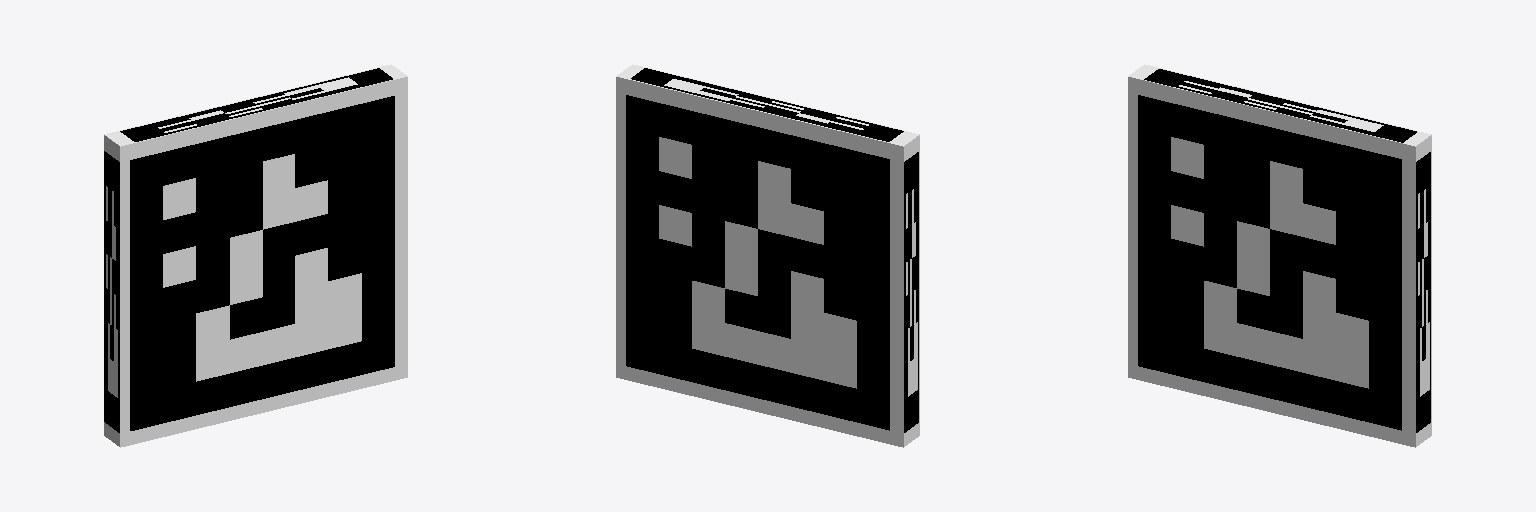
3 renders of one model, left to right at view 1: azimuth 30°, elevation 25°; view 2: azimuth 150°, elevation 25°; view 3: azimuth 330°, elevation 25°, orthographic.
Parts seen in each view (by area): view 1: Cube; view 2: Cube; view 3: Cube.
Boxes of the visible parts, x1,y1,x2,y2 form: Cube: [104, 64, 407, 447]; Cube: [616, 64, 919, 447]; Cube: [1128, 64, 1431, 447].
Size of the model in its own units: 2 by 2 by 0.2.
1 materials, 1 textured.